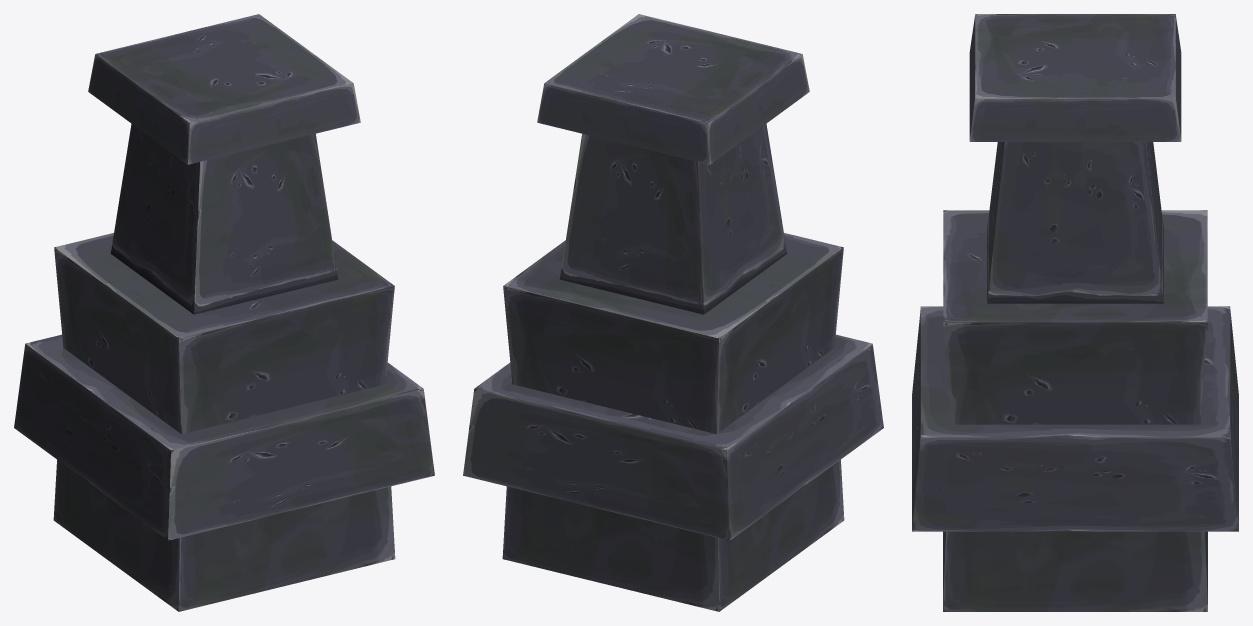
The model's file is MOD_Railing_01_column.fbx.
The picture shows the model from 3 angles, left to right: view 1: azimuth 30°, elevation 25°; view 2: azimuth 150°, elevation 25°; view 3: azimuth 270°, elevation 25°; orthographic projection. The views are drawn at different scales.
Parts seen in each view (by area): view 1: MOD_Railing_01_column; view 2: MOD_Railing_01_column; view 3: MOD_Railing_01_column.
Part boxes in pixels (bbox=[...]): MOD_Railing_01_column: bbox=[14, 14, 434, 611]; MOD_Railing_01_column: bbox=[463, 14, 883, 611]; MOD_Railing_01_column: bbox=[912, 14, 1238, 611].
Bounding box in the file's own units: 114 × 193 × 114.
